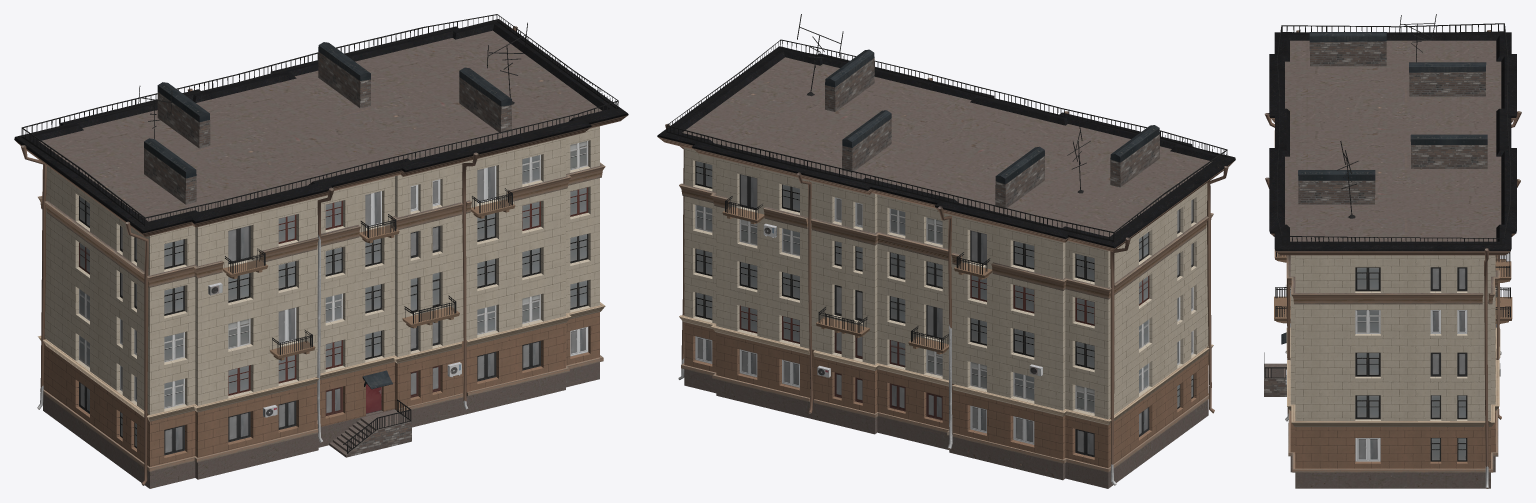
Rendered from Build.fbx.
3 renders of one model, left to right at view 1: azimuth 30°, elevation 25°; view 2: azimuth 150°, elevation 25°; view 3: azimuth 270°, elevation 25°, orthographic. The views are drawn at different scales.
Parts seen in each view (by area): view 1: Build, RoofFence, BuildDecUp, BuildDecMed, BuildDecDown, Stairs, BuildAir.005, BuildAir, BuildAir.006, BuildAir.001, Pump.002, Pump.007 (+7 smaller); view 2: Build, RoofFence, BuildDecUp, BuildDecMed, BuildDecDown, BuildAir, BuildAir.001, BuildAir.006, BuildAir.005, Pump.007, Pump.002, Pump.004 (+4 smaller); view 3: Build, BuildDecUp, BuildAir, BuildAir.001, BuildAir.006, BuildAir.005, RoofFence, BuildDecMed, BuildDecDown, Pump.003, Stairs, BalkonBig (+4 smaller).
Boxes of the visible parts, x1,y1,x2,y2 form: Build: [14, 19, 628, 488]; RoofFence: [21, 14, 618, 226]; BuildDecUp: [38, 162, 605, 287]; BuildDecMed: [38, 302, 605, 421]; BuildDecDown: [40, 355, 603, 471]; Stairs: [329, 409, 411, 457]; BuildAir.005: [157, 82, 210, 148]; BuildAir: [144, 138, 196, 204]; BuildAir.006: [318, 42, 370, 108]; BuildAir.001: [459, 67, 511, 133]; Pump.002: [125, 221, 148, 485]; Pump.007: [21, 145, 46, 409]; Build: [657, 46, 1235, 488]; RoofFence: [666, 39, 1227, 242]; BuildDecUp: [679, 183, 1213, 299]; BuildDecMed: [679, 315, 1213, 425]; BuildDecDown: [681, 363, 1208, 472]; BuildAir: [1110, 125, 1159, 187]; BuildAir.001: [825, 49, 874, 111]; BuildAir.006: [842, 110, 891, 172]; BuildAir.005: [995, 146, 1044, 209]; Pump.007: [1110, 237, 1130, 485]; Pump.002: [1207, 166, 1228, 413]; Pump.004: [797, 172, 812, 413]; Build: [1269, 32, 1516, 488]; BuildDecUp: [1286, 255, 1499, 304]; BuildAir: [1309, 32, 1386, 66]; BuildAir.001: [1298, 170, 1375, 204]; BuildAir.006: [1410, 134, 1487, 168]; BuildAir.005: [1409, 62, 1486, 96]; RoofFence: [1277, 23, 1510, 245]; BuildDecMed: [1286, 278, 1500, 426]; BuildDecDown: [1288, 324, 1498, 472]; Pump.003: [1484, 248, 1489, 488]; Stairs: [1264, 363, 1286, 396]; BalkonBig: [1495, 287, 1512, 323].
Bounding box in the file's own units: 107 × 72.03 × 52.85.
